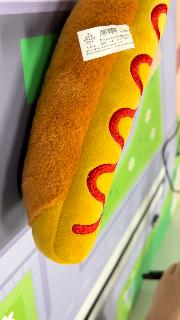hotdog: (21, 1, 171, 266)
